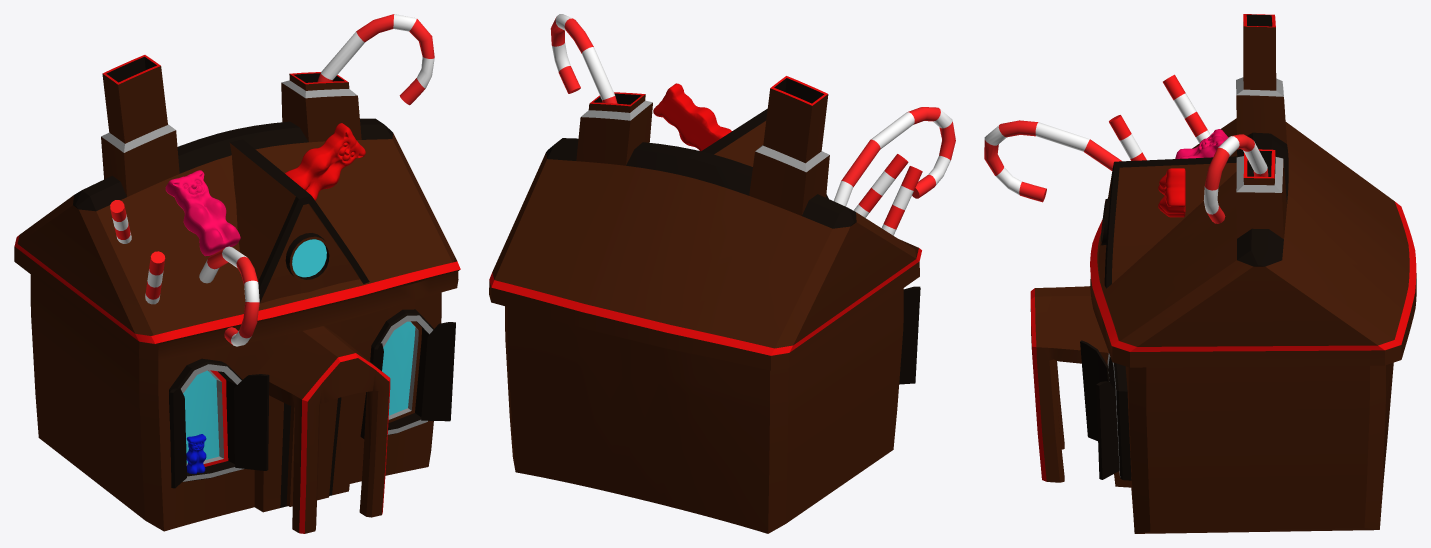
File: Ginger bread house 3.FBX
The picture shows the model from 3 angles, left to right: view 1: azimuth 30°, elevation 25°; view 2: azimuth 150°, elevation 25°; view 3: azimuth 270°, elevation 25°; orthographic projection. The views are drawn at different scales.
Parts seen in each view (by area): view 1: Box021, Box020, Box015, Gummy Bear006, Candy Cane012, Box018, Gummy Bear005, Candy Cane011, Box019, Candy Cane010, Gummy Bear013, Candy Cane013; view 2: Box021, Candy Cane011, Gummy Bear005, Candy Cane012, Box020, Box019, Candy Cane013, Candy Cane010; view 3: Box021, Box020, Candy Cane011, Candy Cane012, Box018, Box017, Gummy Bear005, Candy Cane013, Gummy Bear006, Candy Cane010.
Boxes of the visible parts, x1,y1,x2,y2 form: Box021: [14, 55, 460, 533]; Box020: [230, 139, 369, 303]; Box015: [234, 374, 269, 470]; Gummy Bear006: [165, 170, 240, 256]; Candy Cane012: [317, 14, 434, 105]; Box018: [421, 322, 455, 421]; Gummy Bear005: [285, 123, 365, 200]; Candy Cane011: [199, 246, 259, 346]; Box019: [169, 388, 186, 488]; Candy Cane010: [145, 251, 165, 304]; Gummy Bear013: [186, 434, 206, 474]; Candy Cane013: [110, 200, 131, 243]; Box021: [489, 76, 921, 533]; Candy Cane011: [834, 107, 955, 206]; Gummy Bear005: [653, 83, 731, 151]; Candy Cane012: [550, 14, 617, 103]; Box020: [701, 109, 828, 198]; Box019: [899, 286, 920, 384]; Candy Cane013: [853, 154, 908, 217]; Candy Cane010: [882, 166, 922, 235]; Box021: [1030, 14, 1416, 533]; Box020: [1100, 156, 1242, 288]; Candy Cane011: [984, 120, 1121, 202]; Candy Cane012: [1203, 134, 1268, 223]; Box018: [1096, 381, 1119, 479]; Box017: [1080, 340, 1109, 440]; Gummy Bear005: [1158, 168, 1185, 217]; Candy Cane013: [1163, 74, 1210, 143]; Gummy Bear006: [1175, 129, 1228, 158]; Candy Cane010: [1109, 115, 1146, 160].
Size of the model in its own units: 154 by 176 by 170.
